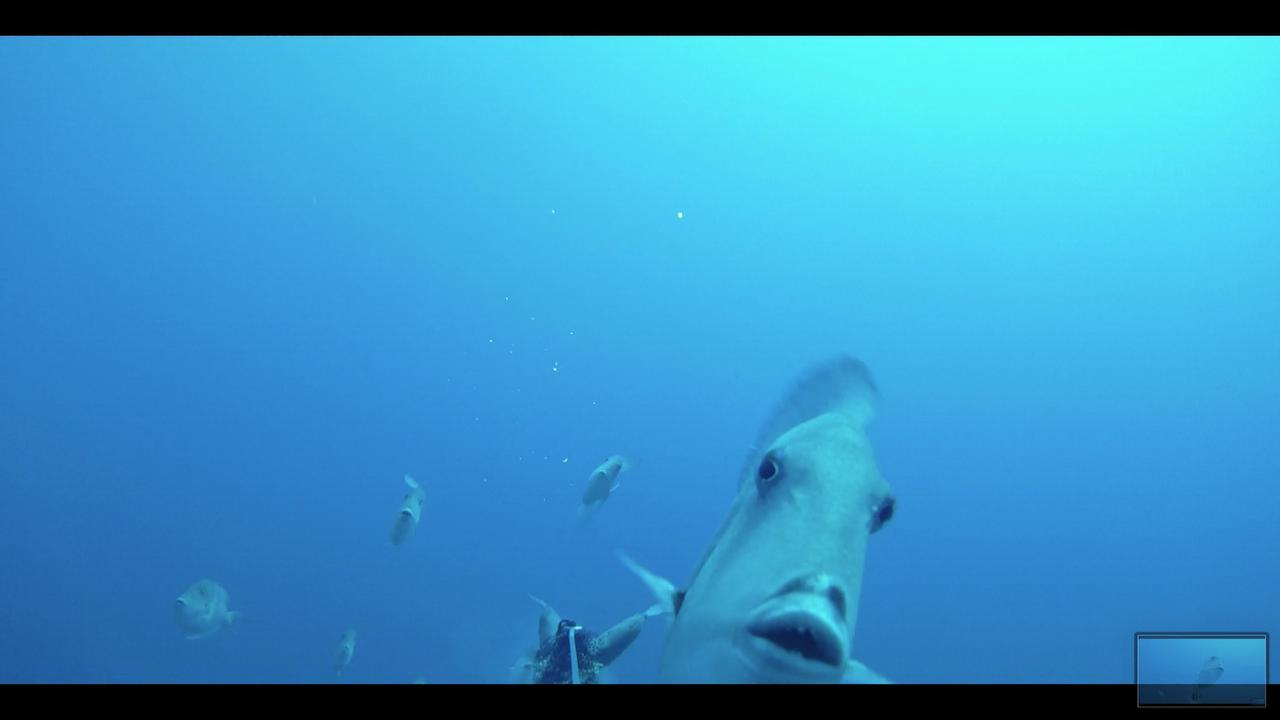balistes: (609, 348, 909, 681), (165, 571, 255, 645), (574, 441, 633, 525), (379, 465, 430, 551)
